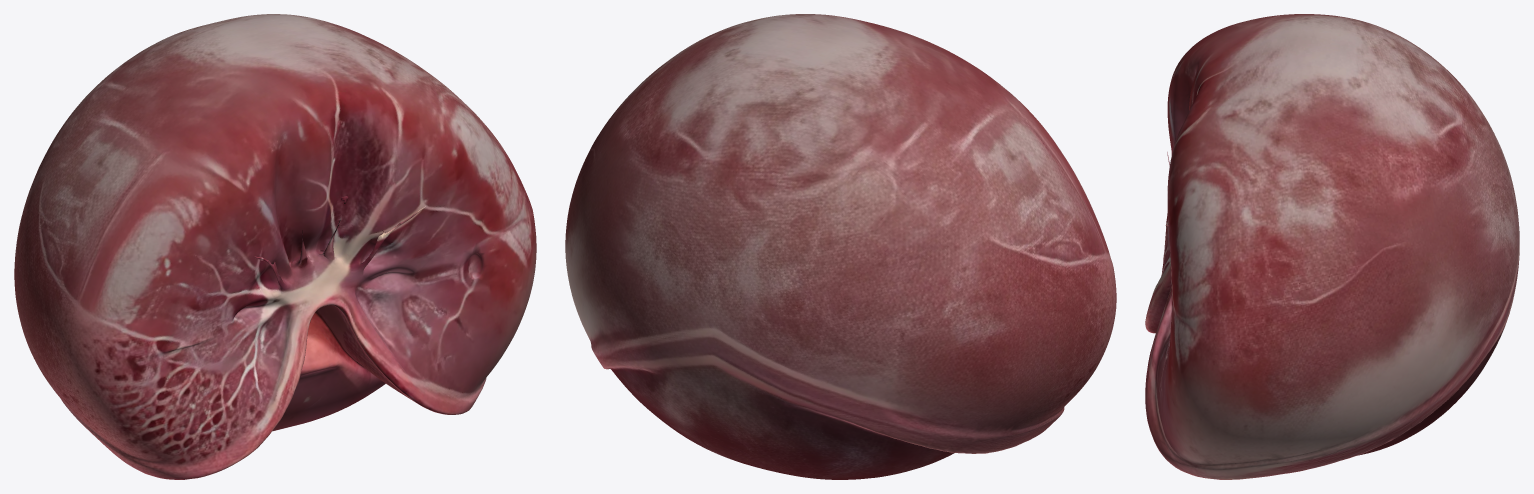
Rendered from vet_v2_path_pancreatitis.glb.
The picture shows the model from 3 angles, left to right: view 1: azimuth 30°, elevation 25°; view 2: azimuth 150°, elevation 25°; view 3: azimuth 270°, elevation 25°; orthographic projection. The views are drawn at different scales.
Visible parts, largest first — view 1: model; view 2: model; view 3: model.
Boxes of the visible parts, x1=… form: model: x1=14, y1=14, x2=536, y2=479; model: x1=565, y1=14, x2=1116, y2=479; model: x1=1145, y1=14, x2=1519, y2=479.
Bounding box in the file's own units: 1.9 × 1.51 × 1.32.
Materials: 1 (1 with a texture image).
